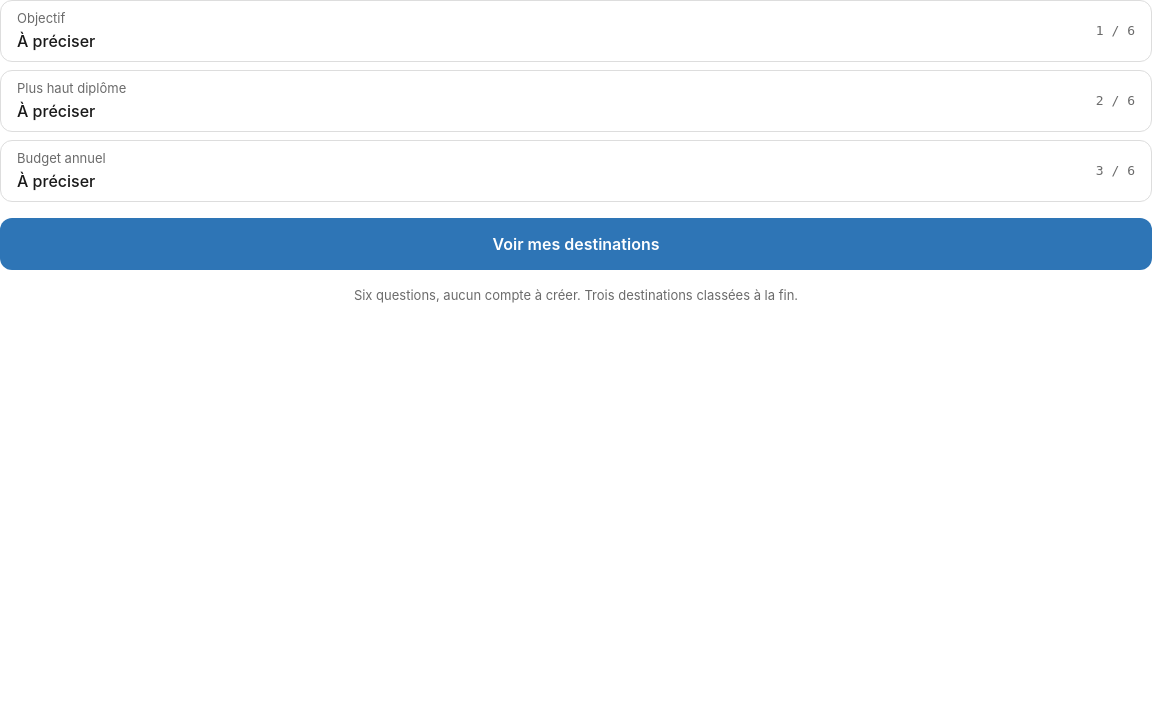
Test case: P-01 — bloc de départ du simulateur › ouvre une feuille du bas par champ et enregistre la réponse
What coordinates should you click on to do the following:
click the button "Objectif À préciser 1 / 6"
I would click on:
 (41, 18)
Its box is [0,0,1151,62].
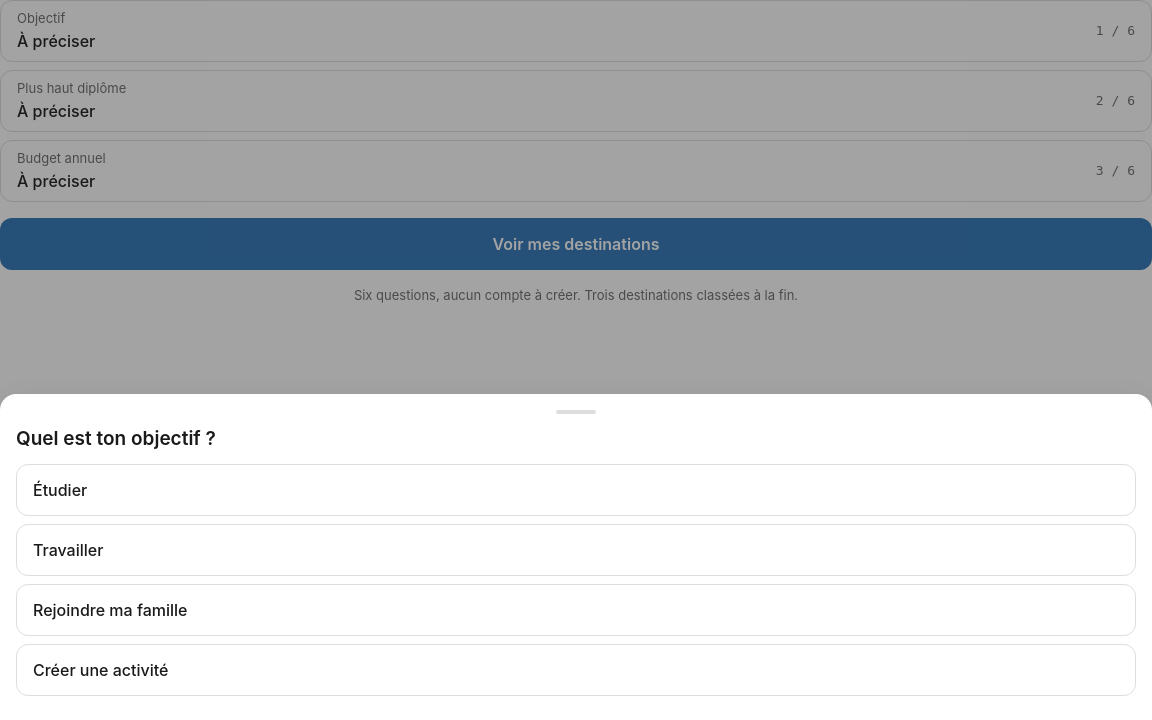
What coordinates should you click on to do the following:
click the button "Étudier"
I would click on:
 (60, 490)
Its box is [16,464,1136,516].
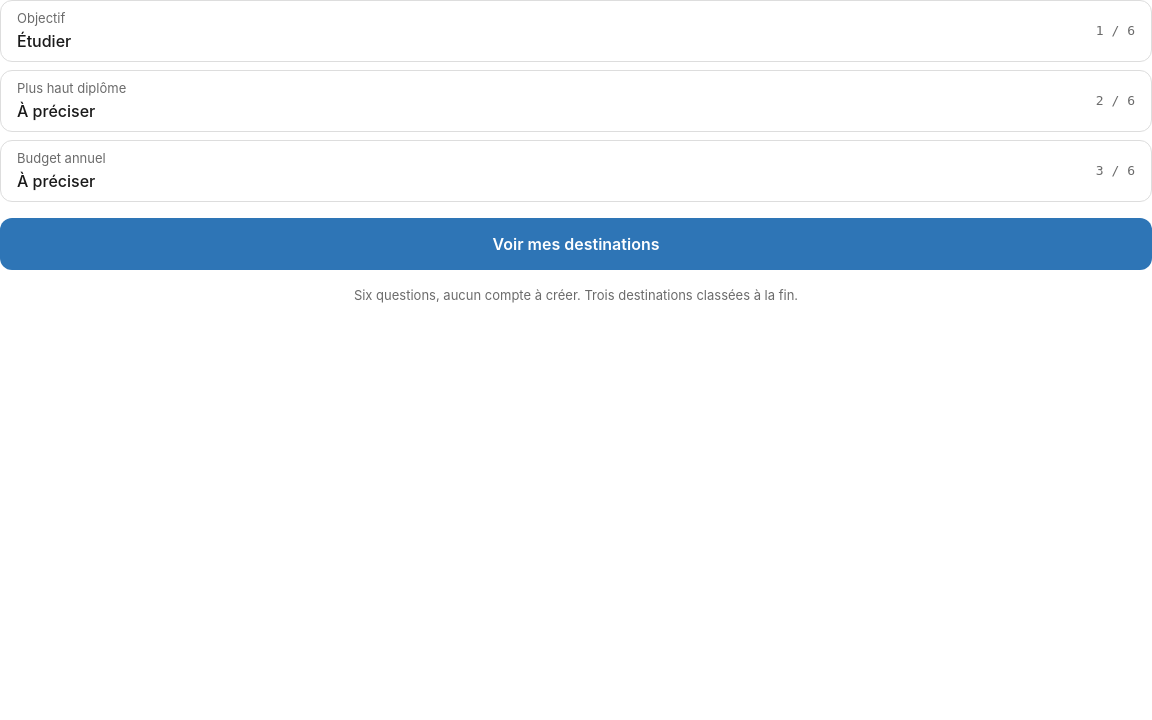
Result: the dialog is gone
Result: the button "Objectif Étudier 1 / 6" is shown at [0,0,1151,62]
